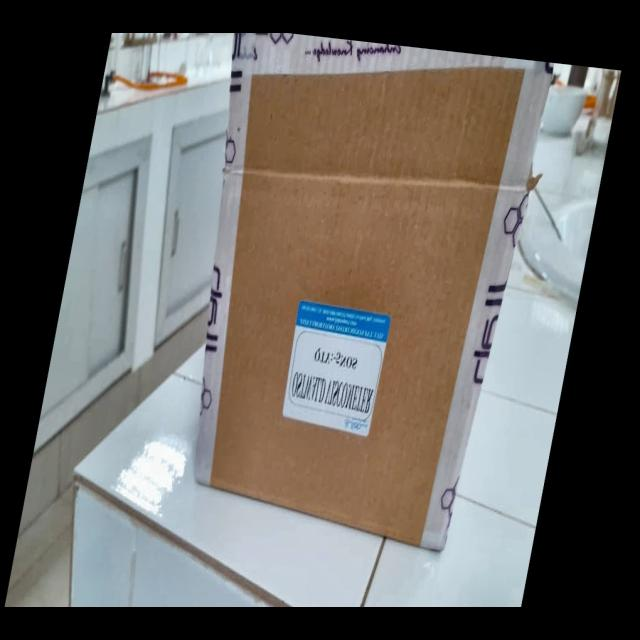Ostwald Viscometer: (179, 230, 500, 539)
